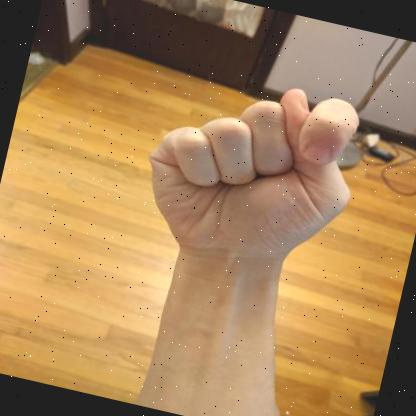T: (149, 88, 359, 280)
